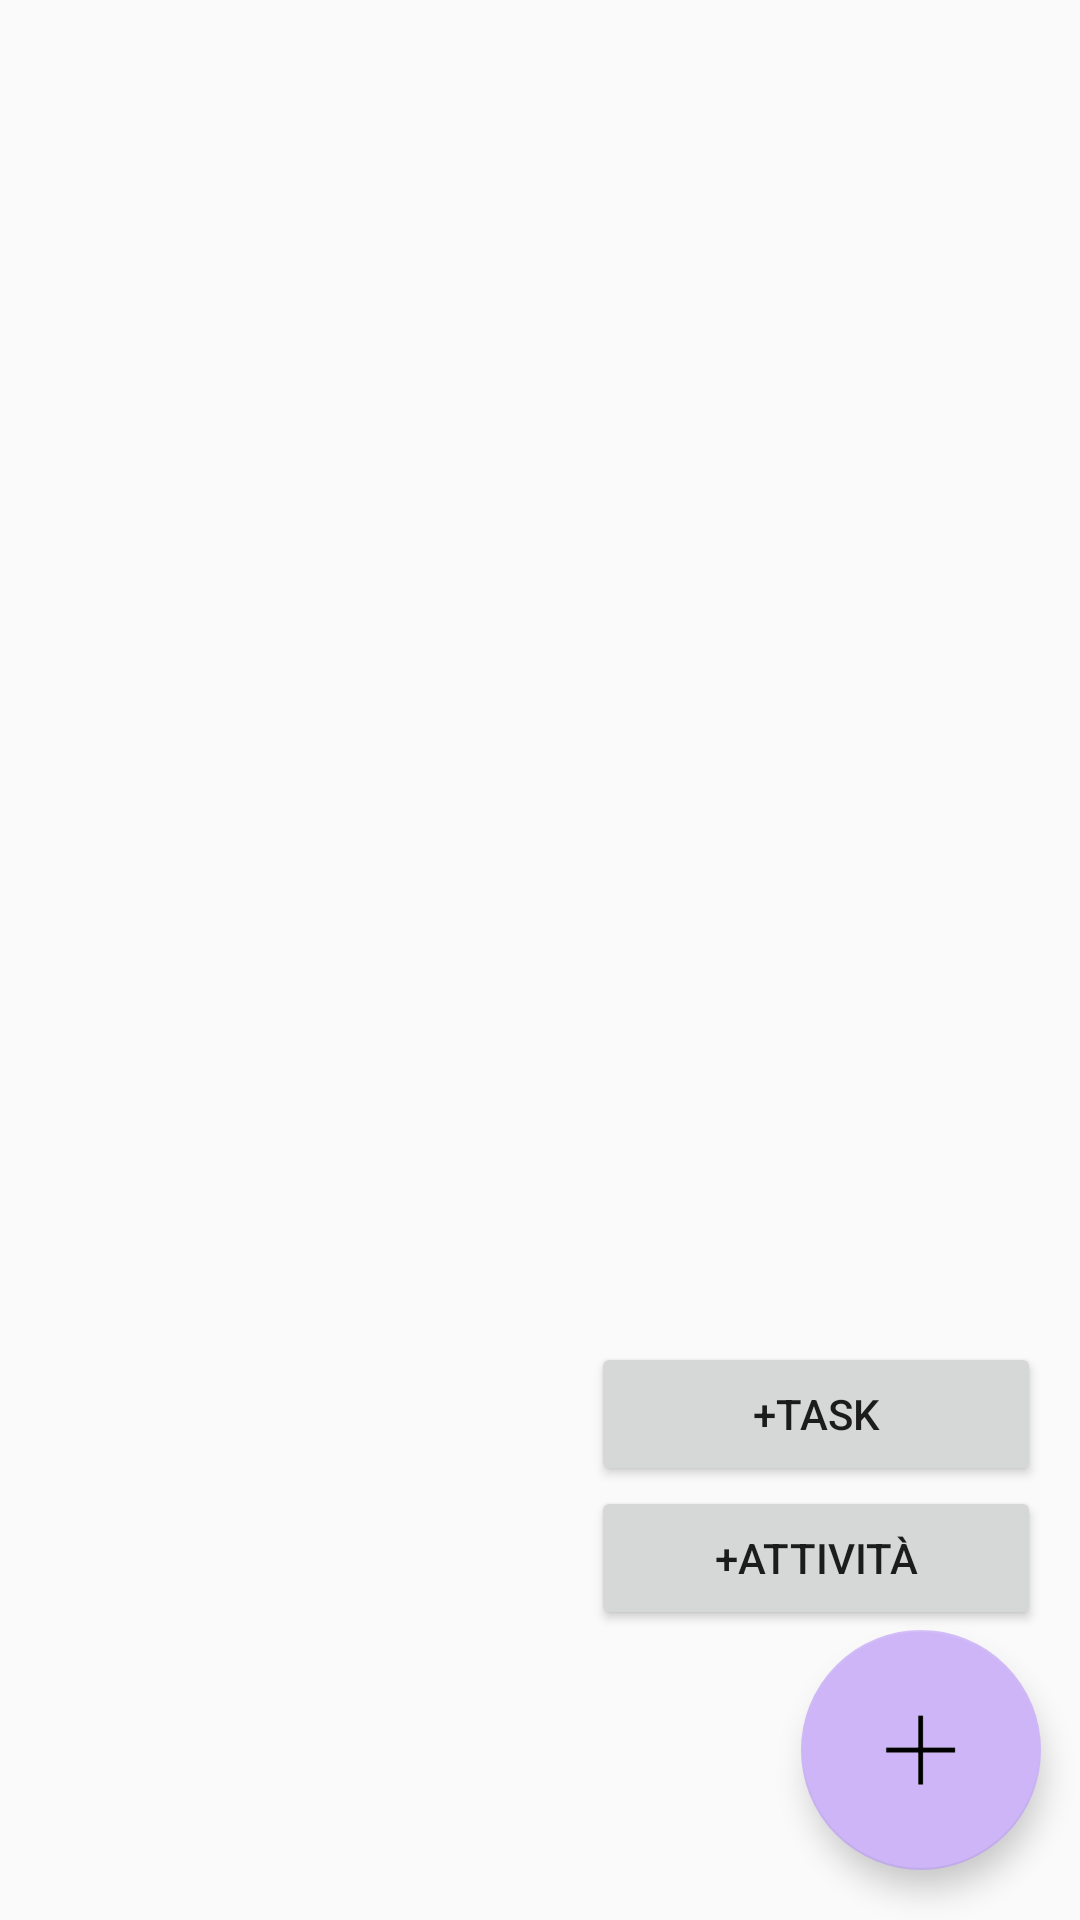

Icon click points for this 1080px×1920px phone screenshot, format [x,y]:
plus: [921,1750]
